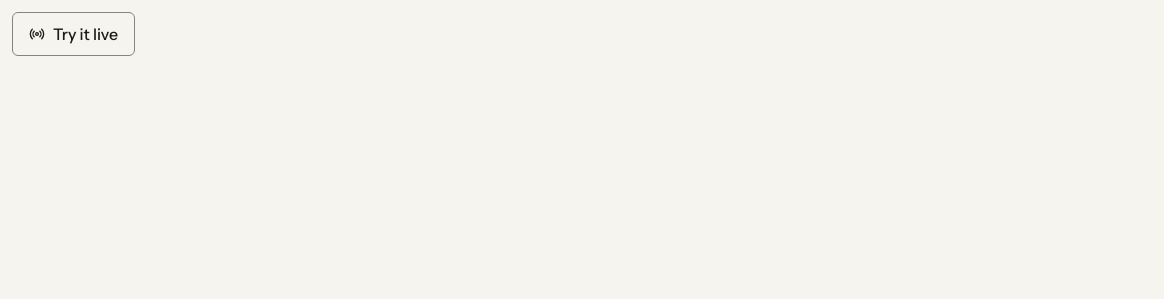
TryLive › tells the learner at the cap when it resets, never failing silently
Click the button "Try it live" at (74, 34), box [12,12,135,56]
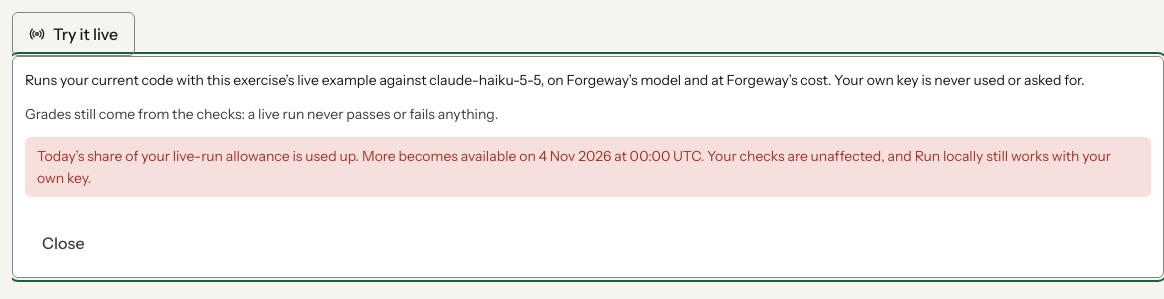
Expected: the message shows "Today’s share of your live-run allowance is used up. More becomes available on 4 Nov 2026 at 00:00 UTC.", [37,147,1111,187]
